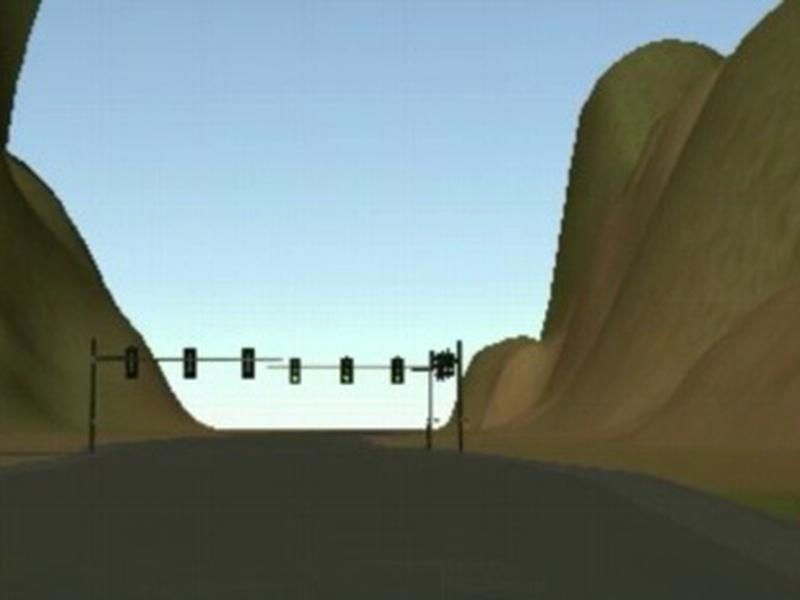Green: (289, 355, 302, 384), (340, 357, 353, 384), (392, 357, 402, 383)
